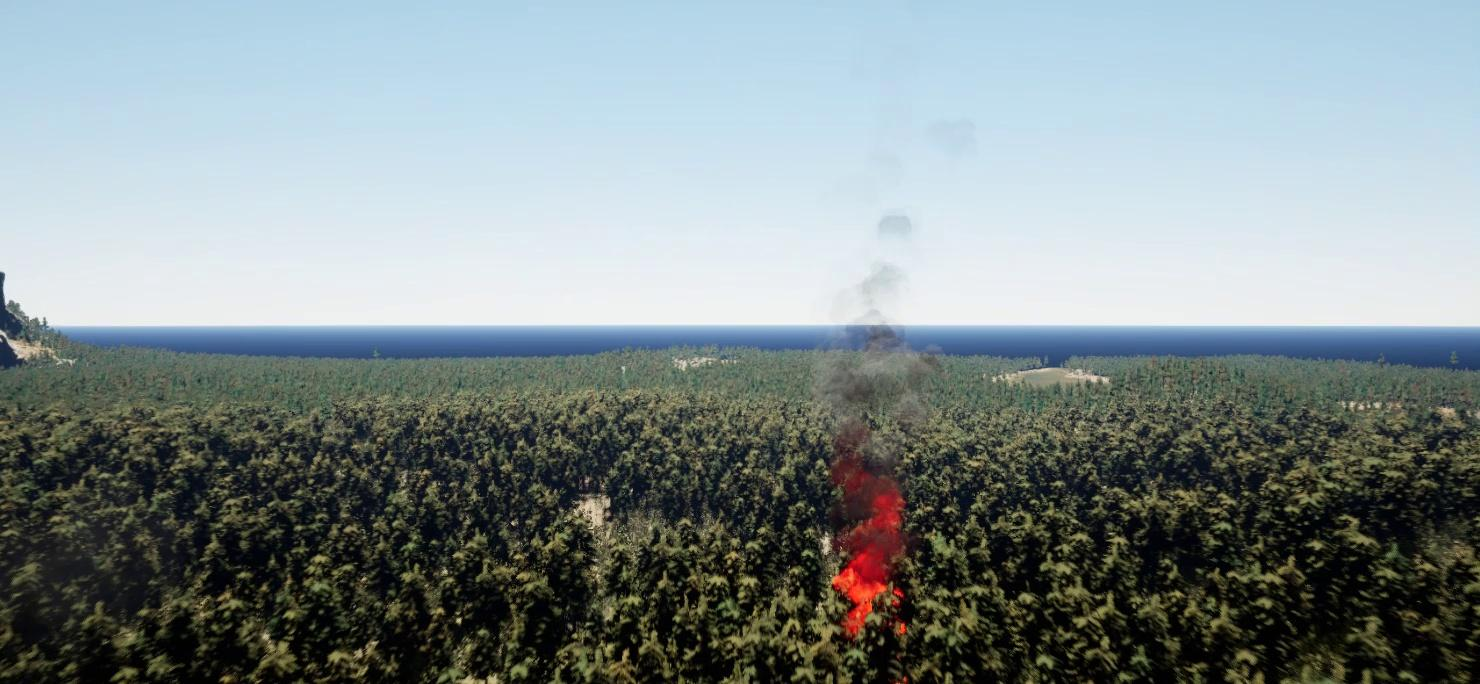fire: (824, 493, 937, 645)
smoke: (822, 114, 981, 488)
